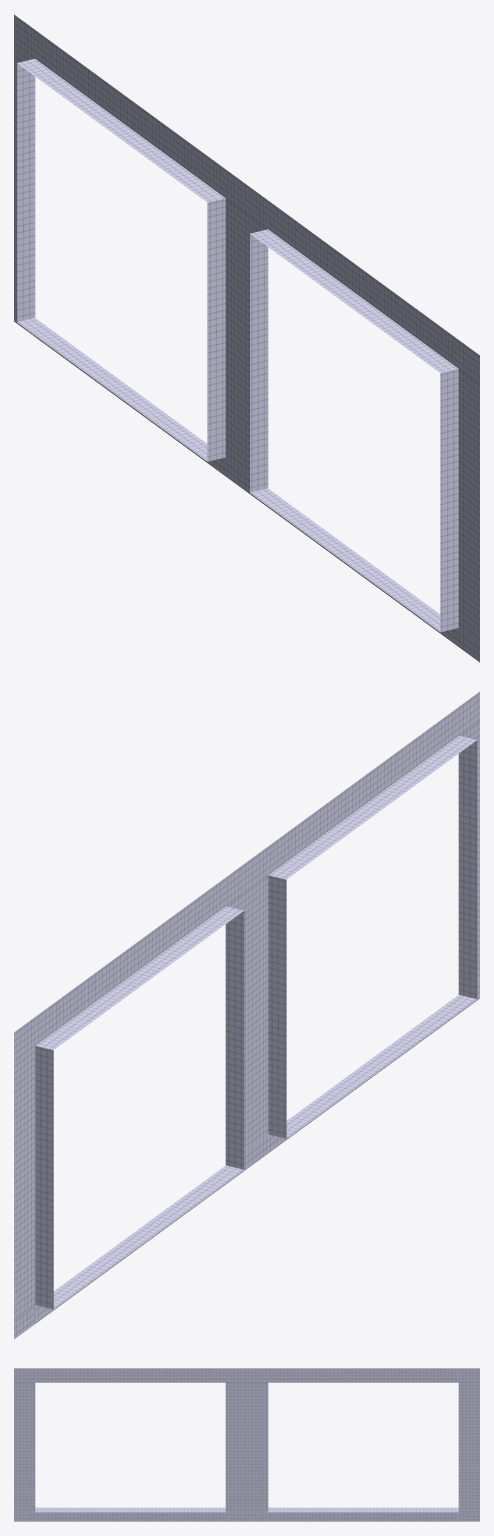
The model's file is gaiheki.obj.
3 renders of one model, top to bottom at view 1: azimuth 30°, elevation 25°; view 2: azimuth 150°, elevation 25°; view 3: azimuth 270°, elevation 25°, orthographic. The views are drawn at different scales.
Parts seen in each view (by area): view 1: gaiheki; view 2: gaiheki; view 3: gaiheki.
Part boxes in pixels (<box>): gaiheki: <box>14,14,479,662</box>; gaiheki: <box>14,691,479,1339</box>; gaiheki: <box>14,1368,479,1521</box>.
Bounding box in the file's own units: 0.2 × 3.2 × 8.8.
1 material, 1 textured.
